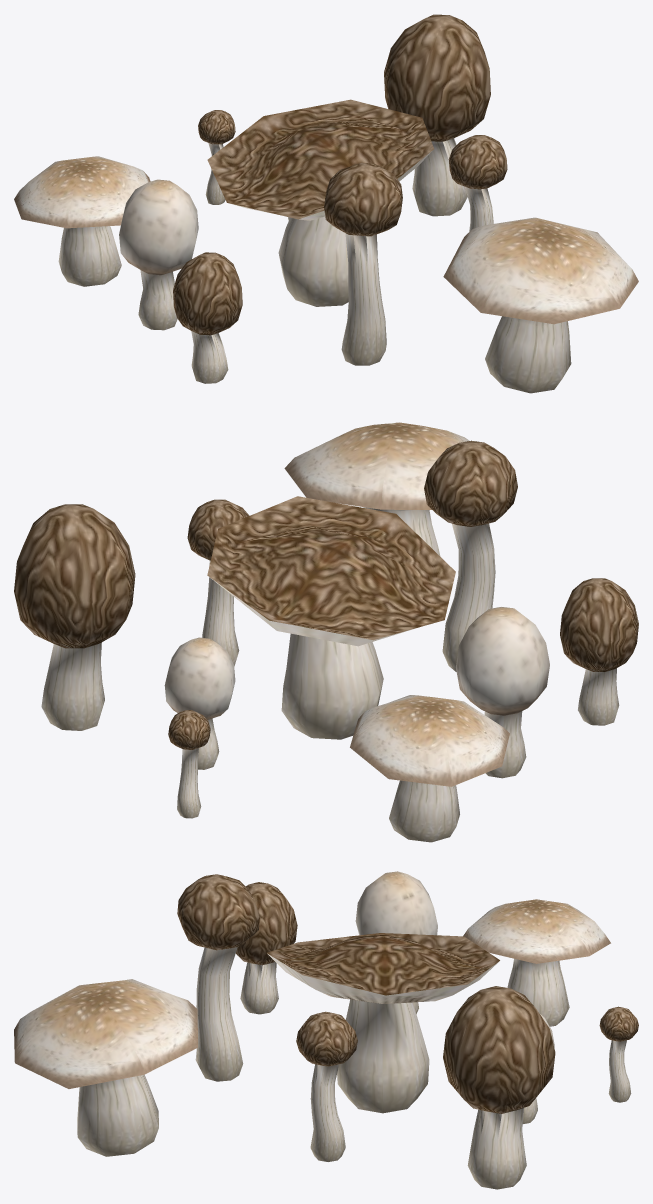
Rendered from pir_m_prp_cav_mushroomGroup_1.fbx.
3 views of the same model, one above another, from view 1: azimuth 30°, elevation 25°; view 2: azimuth 150°, elevation 25°; view 3: azimuth 270°, elevation 25° (orthographic). The views are drawn at different scales.
Parts seen in each view (by area): view 1: mushroom, top2, lod_high, mushroom2, mushroom1, top, mushroom3, stem1, stem; view 2: mushroom, mushroom2, lod_high, top, top2, mushroom1, mushroom3, mushroom4, stem, stem1; view 3: mushroom, lod_high, top2, mushroom2, top, stem1, mushroom3, mushroom1, stem.
Boxes of the visible parts, <box> form: mushroom: <box>207,99,433,306</box>; top2: <box>443,217,638,324</box>; lod_high: <box>198,110,507,365</box>; mushroom2: <box>384,14,490,216</box>; mushroom1: <box>119,179,198,330</box>; top: <box>14,156,150,228</box>; mushroom3: <box>173,252,242,383</box>; stem1: <box>485,316,571,393</box>; stem: <box>58,226,121,286</box>; mushroom: <box>207,496,455,739</box>; mushroom2: <box>14,504,135,730</box>; lod_high: <box>168,440,517,818</box>; top: <box>350,695,509,786</box>; top2: <box>284,422,469,509</box>; mushroom1: <box>456,607,549,778</box>; mushroom3: <box>560,578,638,725</box>; mushroom4: <box>164,637,235,769</box>; stem: <box>389,780,459,842</box>; stem1: <box>363,507,440,555</box>; mushroom: <box>267,933,499,1113</box>; lod_high: <box>177,874,638,1161</box>; top2: <box>14,979,197,1088</box>; mushroom2: <box>443,986,555,1189</box>; top: <box>463,899,610,963</box>; stem1: <box>77,1074,158,1156</box>; mushroom3: <box>236,882,297,1014</box>; mushroom1: <box>355,871,437,1013</box>; stem: <box>507,958,569,1026</box>.
Size of the model in its own units: 924 by 410 by 1111.
1 material, 1 textured.
